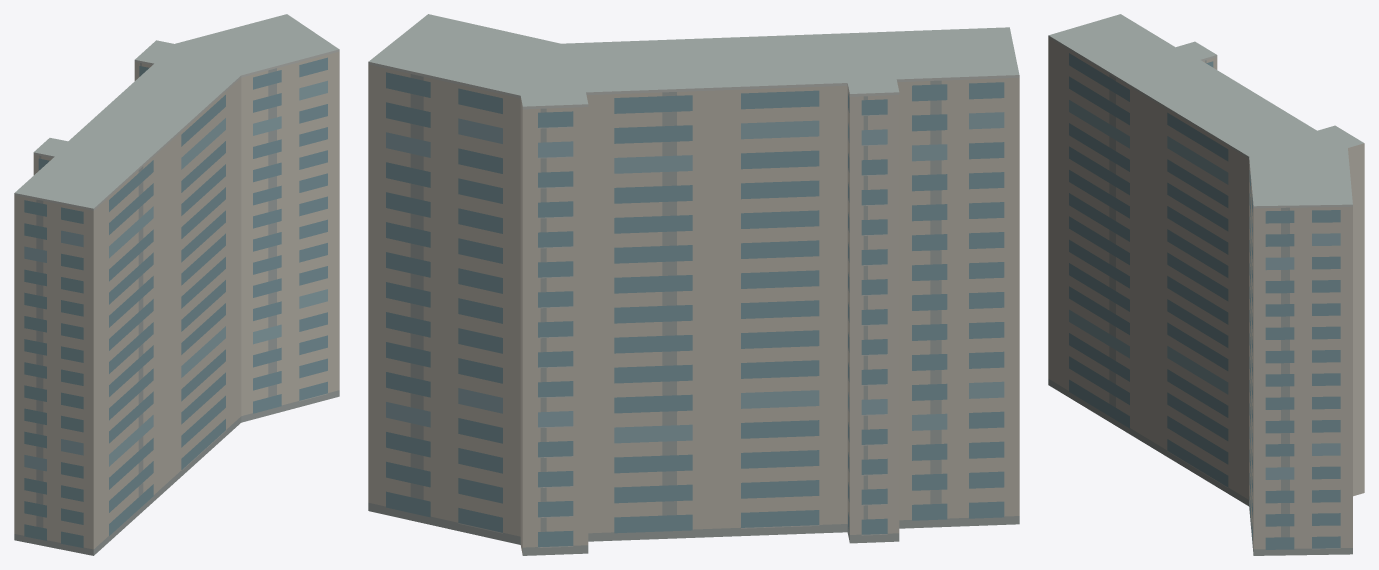
Rendered from residential-1dfd7208-259e-4be7-8adf-2cad462b63c8.glb.
The picture shows the model from 3 angles, left to right: view 1: azimuth 30°, elevation 25°; view 2: azimuth 150°, elevation 25°; view 3: azimuth 270°, elevation 25°; orthographic projection. The views are drawn at different scales.
Parts seen in each view (by area): view 1: residential-1dfd7208-259e-4be7-8adf-2cad462b63c8.tmp; view 2: residential-1dfd7208-259e-4be7-8adf-2cad462b63c8.tmp; view 3: residential-1dfd7208-259e-4be7-8adf-2cad462b63c8.tmp.
Part boxes in pixels (left/top/right/bottom): residential-1dfd7208-259e-4be7-8adf-2cad462b63c8.tmp: left=14, top=14, right=339, bottom=555; residential-1dfd7208-259e-4be7-8adf-2cad462b63c8.tmp: left=368, top=14, right=1019, bottom=555; residential-1dfd7208-259e-4be7-8adf-2cad462b63c8.tmp: left=1048, top=14, right=1364, bottom=555.
Bounding box in the file's own units: 47.15 × 40 × 32.77.
